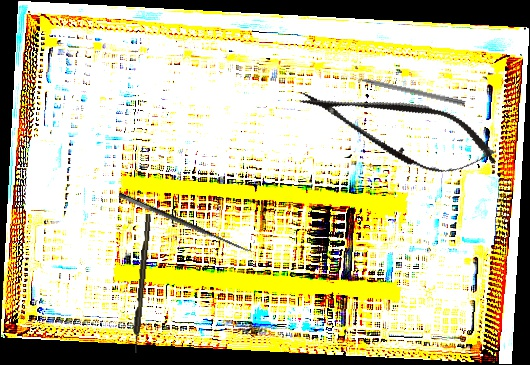Hook Surgical: (117, 181, 256, 258), (130, 214, 153, 353)
Micro Scissor: (290, 67, 506, 191)
Pusher: (340, 70, 467, 107)
